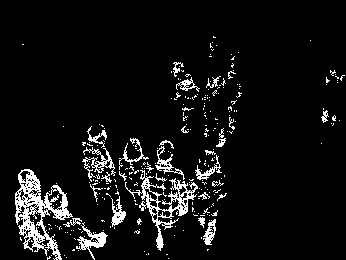person: (140, 138, 189, 253), (40, 182, 107, 260), (187, 147, 228, 250), (13, 167, 57, 260), (82, 122, 121, 225), (202, 72, 241, 149), (117, 134, 149, 216), (169, 60, 200, 133)
